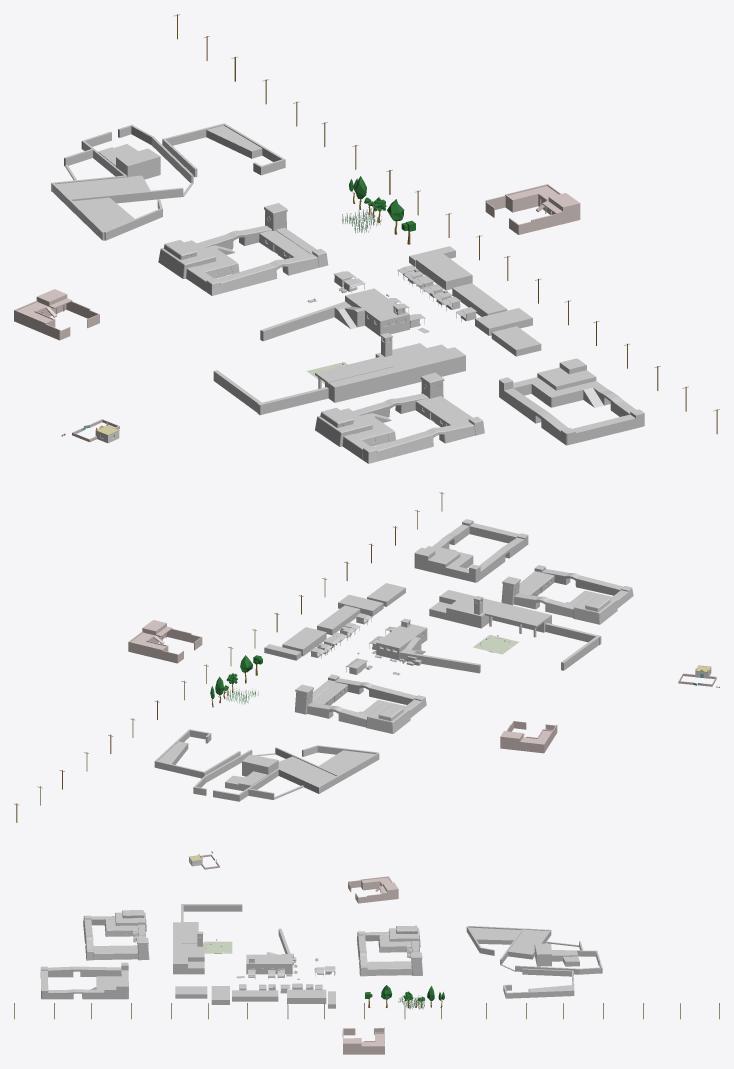
Rendered from market area.fbx.
3 views of the same model, one above another, from view 1: azimuth 30°, elevation 25°; view 2: azimuth 150°, elevation 25°; view 3: azimuth 270°, elevation 25° (orthographic). The views are drawn at different scales.
Visible parts, largest first — view 1: polySurface138, polySurface153, polySurface1388, polySurface845, polySurface177, pCube94, pCube93, group31_pCylinder5; view 2: polySurface138, polySurface153, polySurface1388, polySurface845, polySurface177, pCube94, pCube93, group31_pCylinder5; view 3: polySurface138, polySurface153, polySurface1388, polySurface845, polySurface177, pCube93, pCube94, group31_pCylinder5, polySurface137.
Part boxes in pixels (left/top/right/bottom): polySurface138: left=213, top=246, right=541, bottom=415; polySurface153: left=51, top=123, right=285, bottom=240; polySurface1388: left=158, top=203, right=328, bottom=295; polySurface845: left=315, top=372, right=484, bottom=463; polySurface177: left=499, top=358, right=644, bottom=445; pCube94: left=485, top=184, right=580, bottom=234; pCube93: left=14, top=289, right=99, bottom=340; group31_pCylinder5: left=174, top=14, right=719, bottom=433; polySurface138: left=264, top=583, right=601, bottom=675; polySurface153: left=154, top=729, right=379, bottom=801; polySurface1388: left=295, top=674, right=426, bottom=733; polySurface845: left=501, top=565, right=633, bottom=624; polySurface177: left=414, top=519, right=528, bottom=582; pCube94: left=128, top=620, right=202, bottom=663; pCube93: left=500, top=721, right=557, bottom=753; group31_pCylinder5: left=14, top=492, right=444, bottom=822; polySurface138: left=173, top=904, right=335, bottom=1008; polySurface153: left=466, top=925, right=602, bottom=998; polySurface1388: left=357, top=925, right=422, bottom=976; polySurface845: left=83, top=910, right=149, bottom=960; polySurface177: left=40, top=962, right=128, bottom=999; pCube93: left=348, top=876, right=398, bottom=903; pCube94: left=342, top=1027, right=384, bottom=1054; group31_pCylinder5: left=14, top=1003, right=719, bottom=1019; polySurface137: left=204, top=941, right=232, bottom=953.
Size of the model in its own units: 654 by 46.97 by 989.
